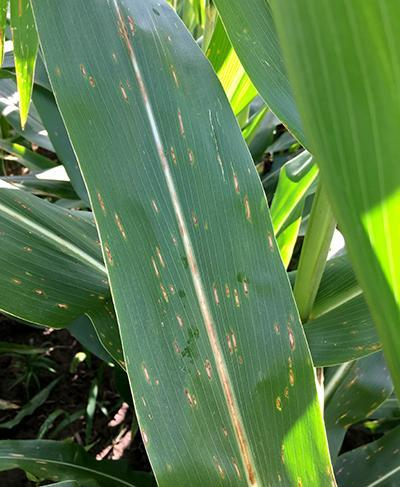Gray_Leaf_Spot: (87, 184, 130, 371), (212, 373, 279, 487), (3, 0, 33, 129), (336, 356, 400, 413), (331, 440, 400, 487), (153, 248, 190, 334), (270, 315, 308, 396), (200, 102, 237, 175), (12, 272, 68, 318), (126, 358, 155, 415), (113, 10, 143, 63), (228, 166, 256, 220), (213, 322, 248, 365), (170, 212, 211, 248), (2, 177, 39, 215), (200, 277, 248, 305), (190, 354, 227, 387), (331, 342, 394, 361), (71, 59, 103, 96), (162, 143, 198, 169), (113, 74, 145, 102), (168, 98, 189, 136), (257, 228, 287, 254), (171, 385, 200, 409), (166, 59, 186, 90), (150, 195, 168, 220), (17, 236, 37, 257)
